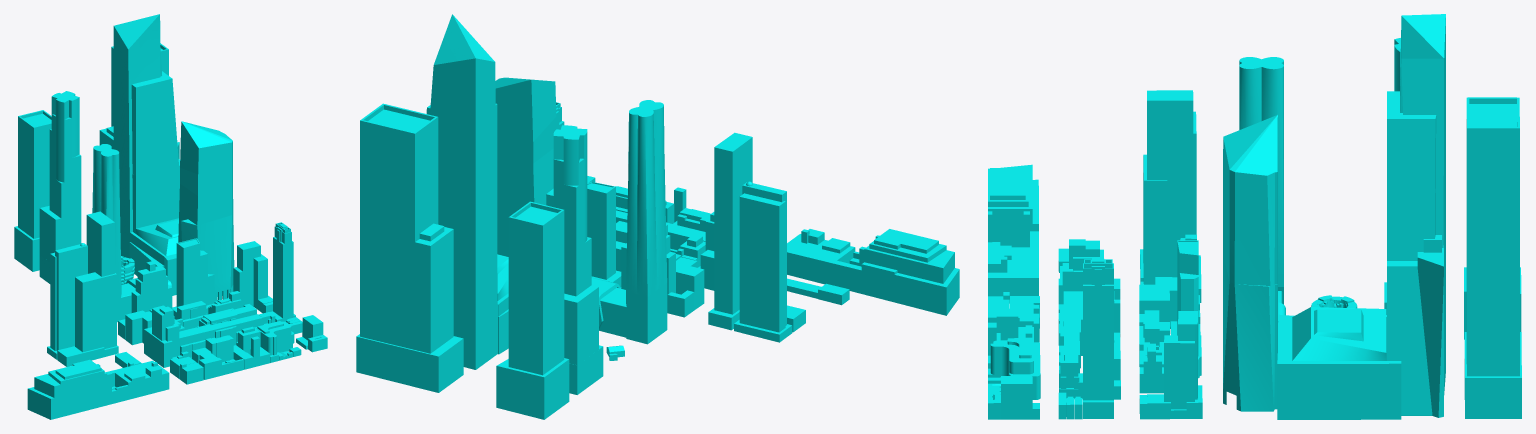
The model's file is 03_buildings.glb.
3 renders of one model, left to right at view 1: azimuth 30°, elevation 25°; view 2: azimuth 150°, elevation 25°; view 3: azimuth 270°, elevation 25°, orthographic. The views are drawn at different scales.
Parts seen in each view (by area): view 1: object 2, 303603808, 1089415973, object 220, 264656677, object 219, 468768092, 1021760867, object 213, 398440363, 413058178, 315281455 (+15 smaller); view 2: 1021580376, object 2, object 219, 264656677, object 213, 1089415973, 303603808, 1021760867, object 220, 413058178, 468768092, 288634629 (+6 smaller); view 3: object 2, 1021580376, 303603808, 398440363, object 220, 264656677, object 202, 315281455, object 213, 468768092, 315298215, 413058178 (+9 smaller).
Part boxes in pixels (<box>): object 2: <box>113,14,180,258</box>; 303603808: <box>178,121,234,301</box>; 1089415973: <box>39,91,81,283</box>; object 220: <box>57,211,118,366</box>; 264656677: <box>27,359,169,419</box>; object 219: <box>14,110,51,271</box>; 468768092: <box>144,305,262,367</box>; 1021760867: <box>47,243,87,359</box>; object 213: <box>92,144,121,322</box>; 398440363: <box>129,218,178,295</box>; 413058178: <box>172,238,214,319</box>; 315281455: <box>233,241,272,313</box>; 1021580376: <box>356,103,463,392</box>; object 2: <box>426,14,497,369</box>; object 219: <box>496,201,569,419</box>; 264656677: <box>787,229,959,315</box>; object 213: <box>626,100,667,344</box>; 1089415973: <box>553,125,603,394</box>; 303603808: <box>495,77,556,256</box>; 1021760867: <box>734,181,792,342</box>; object 220: <box>708,132,805,332</box>; 413058178: <box>587,181,621,287</box>; 468768092: <box>616,210,714,290</box>; 288634629: <box>620,224,694,317</box>; object 2: <box>1387,14,1445,417</box>; 1021580376: <box>1464,97,1521,418</box>; 303603808: <box>1223,115,1277,411</box>; 398440363: <box>1277,307,1401,419</box>; object 220: <box>1140,90,1201,302</box>; 264656677: <box>988,164,1038,303</box>; object 202: <box>1083,258,1113,418</box>; 315281455: <box>1139,311,1202,419</box>; object 213: <box>1239,57,1283,304</box>; 468768092: <box>1058,239,1120,373</box>; 315298215: <box>988,338,1040,399</box>; 413058178: <box>1172,240,1201,378</box>.
Bounding box in the file's own units: 0.8196 × 0.688 × 0.8649.
